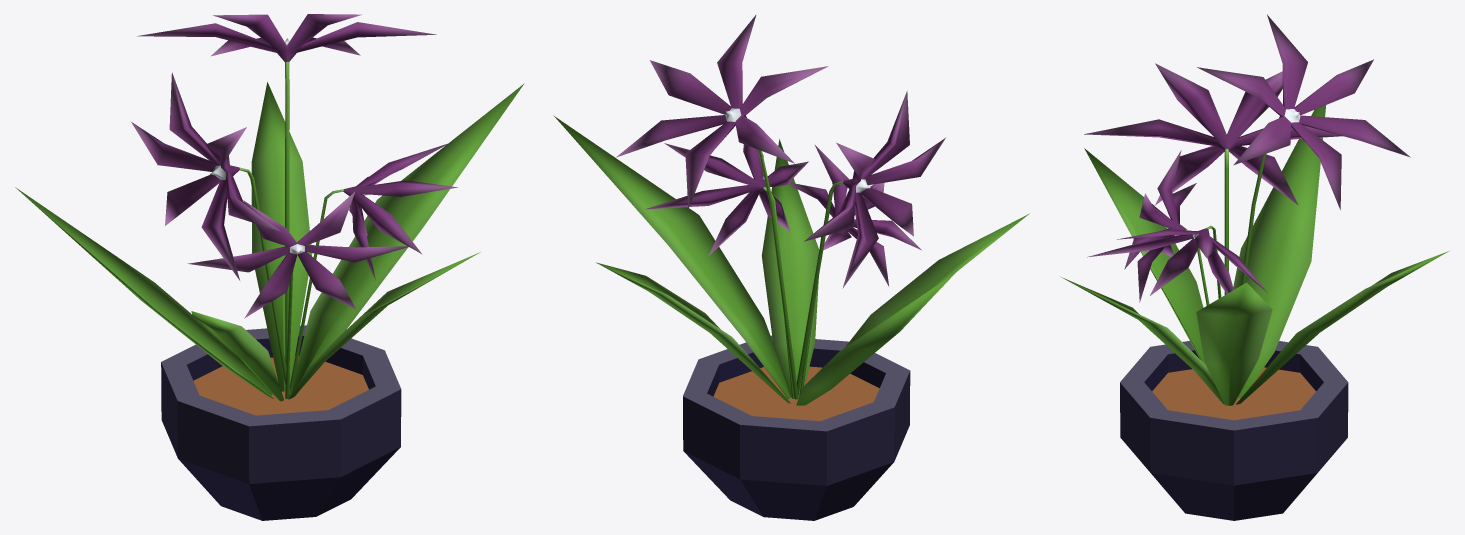
Rendered from pfp25.fbx.
The picture shows the model from 3 angles, left to right: view 1: azimuth 30°, elevation 25°; view 2: azimuth 150°, elevation 25°; view 3: azimuth 270°, elevation 25°; orthographic projection. The views are drawn at different scales.
Visible parts, largest first — view 1: pfp25; view 2: pfp25; view 3: pfp25.
Part boxes in pixels (x1=…): pfp25: x1=15, y1=14, x2=524, y2=520; pfp25: x1=553, y1=15, x2=1029, y2=520; pfp25: x1=1061, y1=14, x2=1448, y2=520.
Size of the model in its own units: 61.89 by 60.16 by 46.95.
